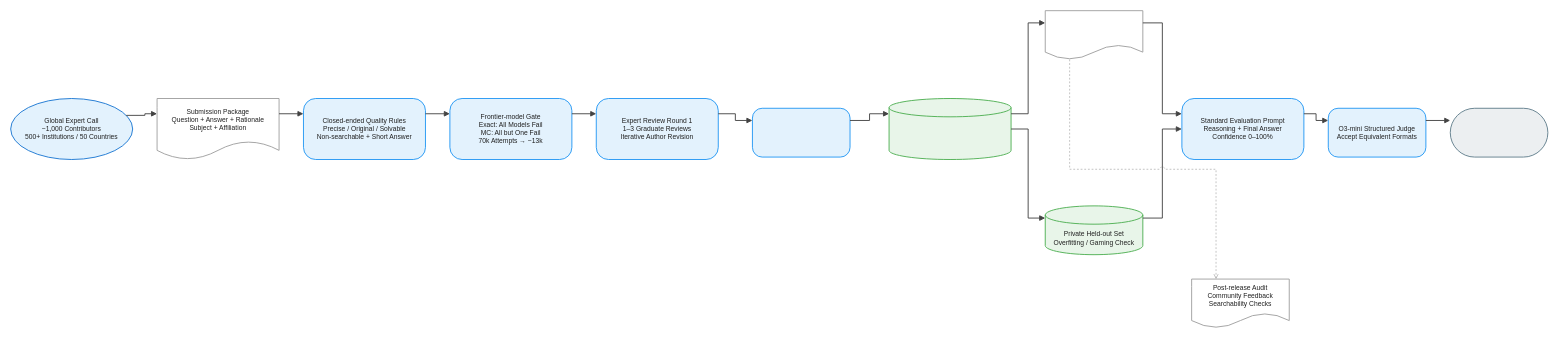
This 1559x339 diagram has some shape labels left out. Each missing label, with the centre of its shape:
"Final HLE 100+ Subjects 14% Multimodal; 24% MC" belongs at (949,129).
"Public Release 2,500 Questions" belongs at (1094,35).
"Report Accuracy RMS Calibration Error" belongs at (1499,132).
"Review Round 2 Organizer / Expert Approval" belongs at (801,132).
